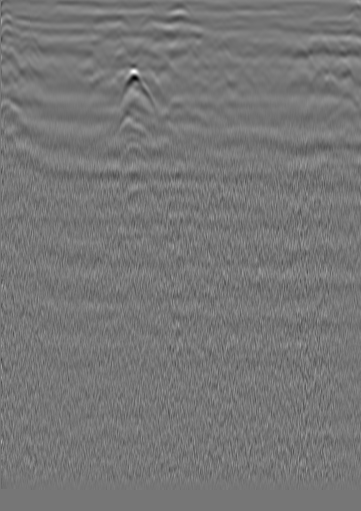가스: (114, 64, 163, 112)
상수: (308, 13, 328, 33)
오수: (17, 8, 37, 28)
우수: (171, 10, 191, 30)
